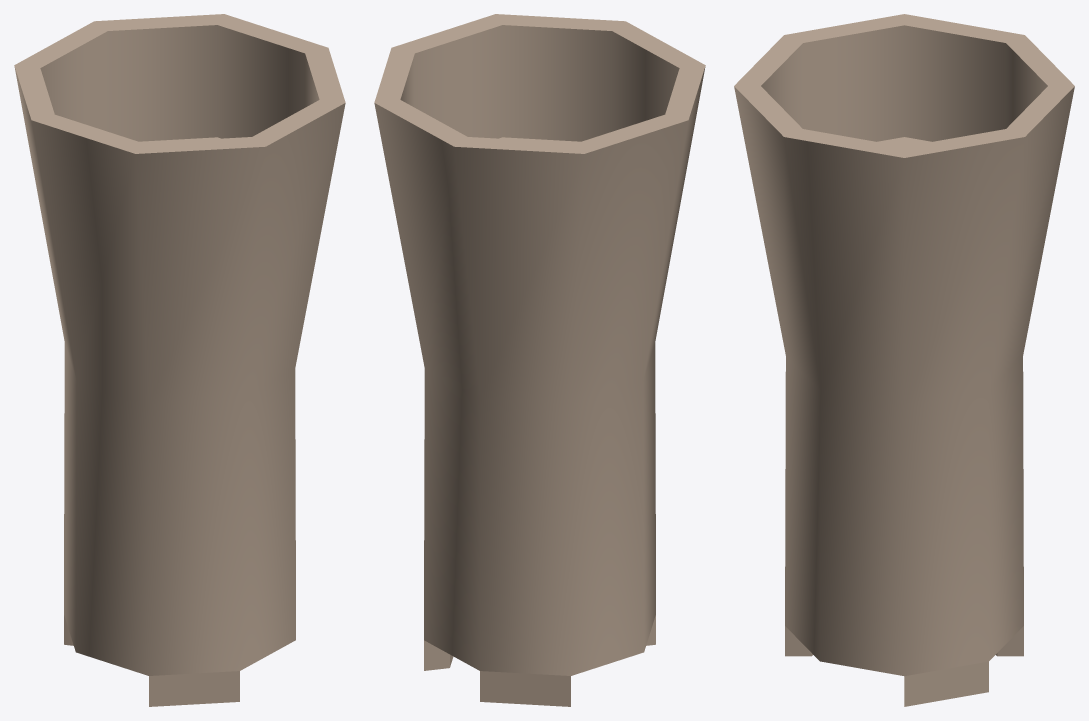
The model's file is F_bossromm_pot1.fbx.
3 renders of one model, left to right at view 1: azimuth 30°, elevation 25°; view 2: azimuth 150°, elevation 25°; view 3: azimuth 270°, elevation 25°, orthographic.
Visible parts, largest first — view 1: boss_pot1; view 2: boss_pot1; view 3: boss_pot1.
Boxes of the visible parts, <box> form: boss_pot1: <box>14,14,345,706</box>; boss_pot1: <box>374,14,705,706</box>; boss_pot1: <box>734,14,1074,706</box>.
Size of the model in its own units: 26.17 by 48.32 by 26.17.
